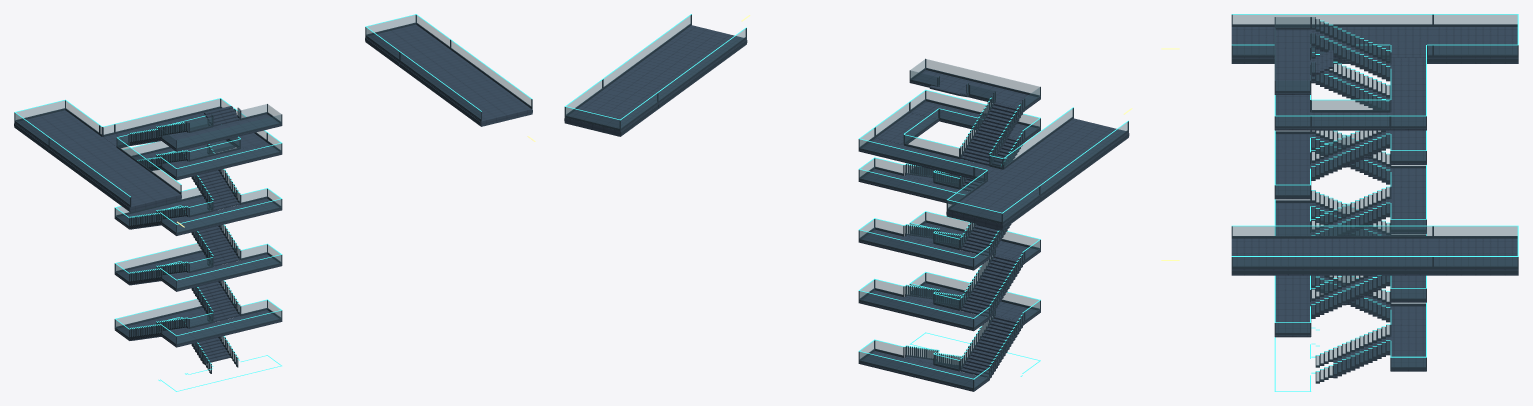
File: v02-detailed-01-03-coffered.glb
The picture shows the model from 3 angles, left to right: view 1: azimuth 30°, elevation 25°; view 2: azimuth 150°, elevation 25°; view 3: azimuth 270°, elevation 25°; orthographic projection. The views are drawn at different scales.
Visible parts, largest first — view 1: v02-detailed-01-03-coffered; view 2: v02-detailed-01-03-coffered; view 3: v02-detailed-01-03-coffered.
Boxes of the visible parts, <box> form: v02-detailed-01-03-coffered: <box>14,14,535,391</box>; v02-detailed-01-03-coffered: <box>564,14,1132,391</box>; v02-detailed-01-03-coffered: <box>1161,14,1518,391</box>.
Size of the model in its own units: 47.1 by 29.02 by 29.25.
Materials: 5 (1 with a texture image).
